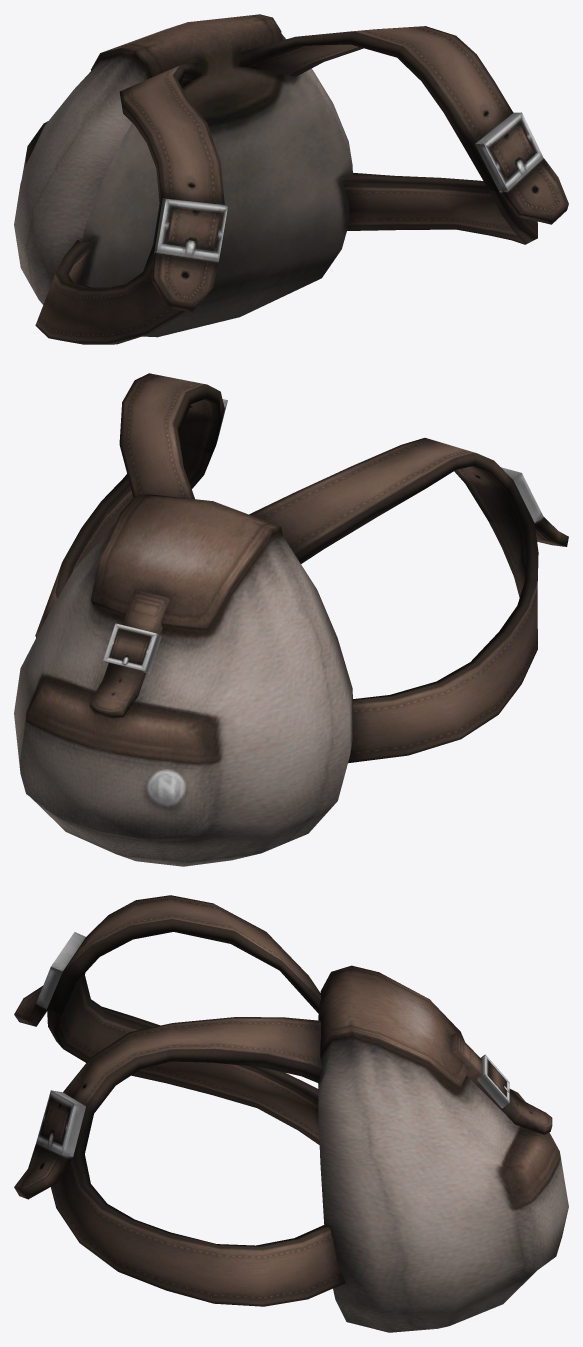
The model's file is BackPack.FBX.
The picture shows the model from 3 angles, top to bottom: view 1: azimuth 30°, elevation 25°; view 2: azimuth 150°, elevation 25°; view 3: azimuth 270°, elevation 25°; orthographic projection.
Parts seen in each view (by area): view 1: polygon15, polygon14, polygon13; view 2: polygon13, polygon15; view 3: polygon13, polygon15.
Part boxes in pixels (x1,y1,x2,y2): polygon15: (35, 26, 568, 344); polygon14: (81, 54, 352, 337); polygon13: (14, 14, 352, 304); polygon13: (14, 494, 353, 866); polygon15: (35, 373, 568, 763); polygon13: (318, 965, 568, 1332); polygon15: (14, 895, 552, 1306).
Size of the model in its own units: 5.02 by 3.63 by 5.41.
3 materials, 3 textured.
